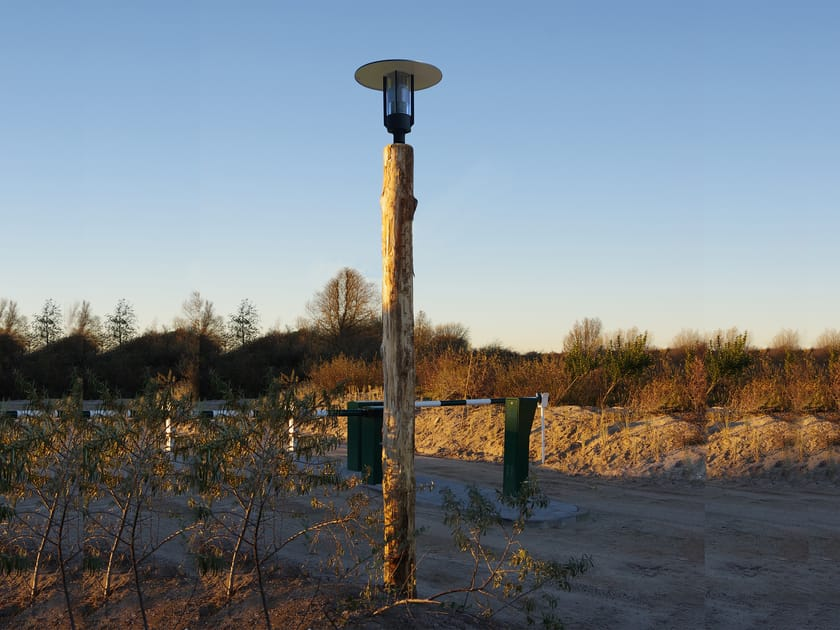light_pole: (358, 52, 429, 610)
